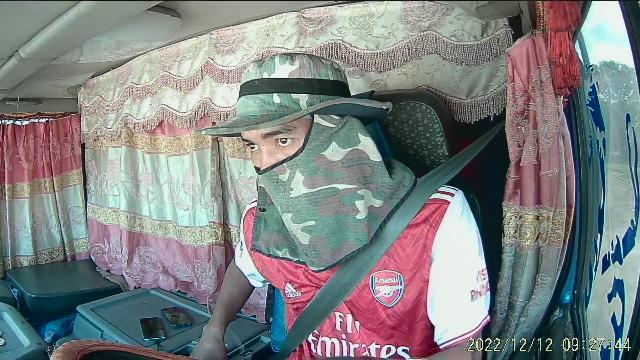PhoneUse: (159, 302, 195, 330), (138, 316, 168, 342)
SafeDriving: (264, 126, 298, 148)
Seatbelt: (286, 156, 478, 360)
